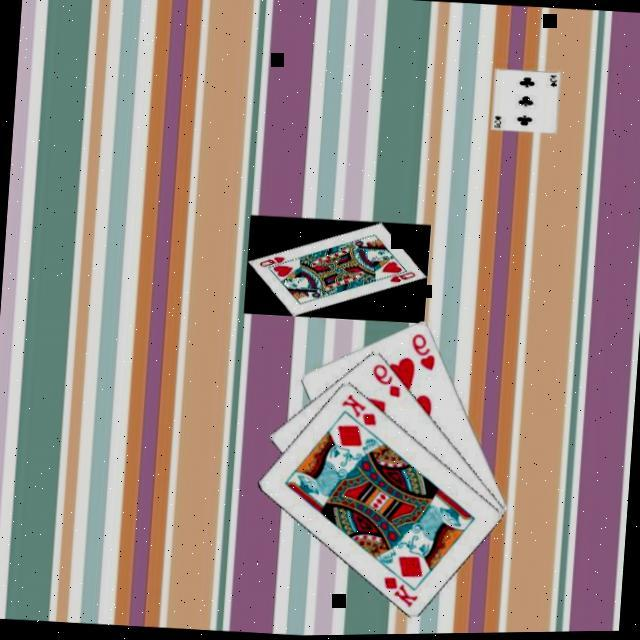9D: (369, 360, 406, 400)
9H: (408, 329, 441, 373)
KD: (339, 390, 383, 430), (380, 573, 423, 611)
